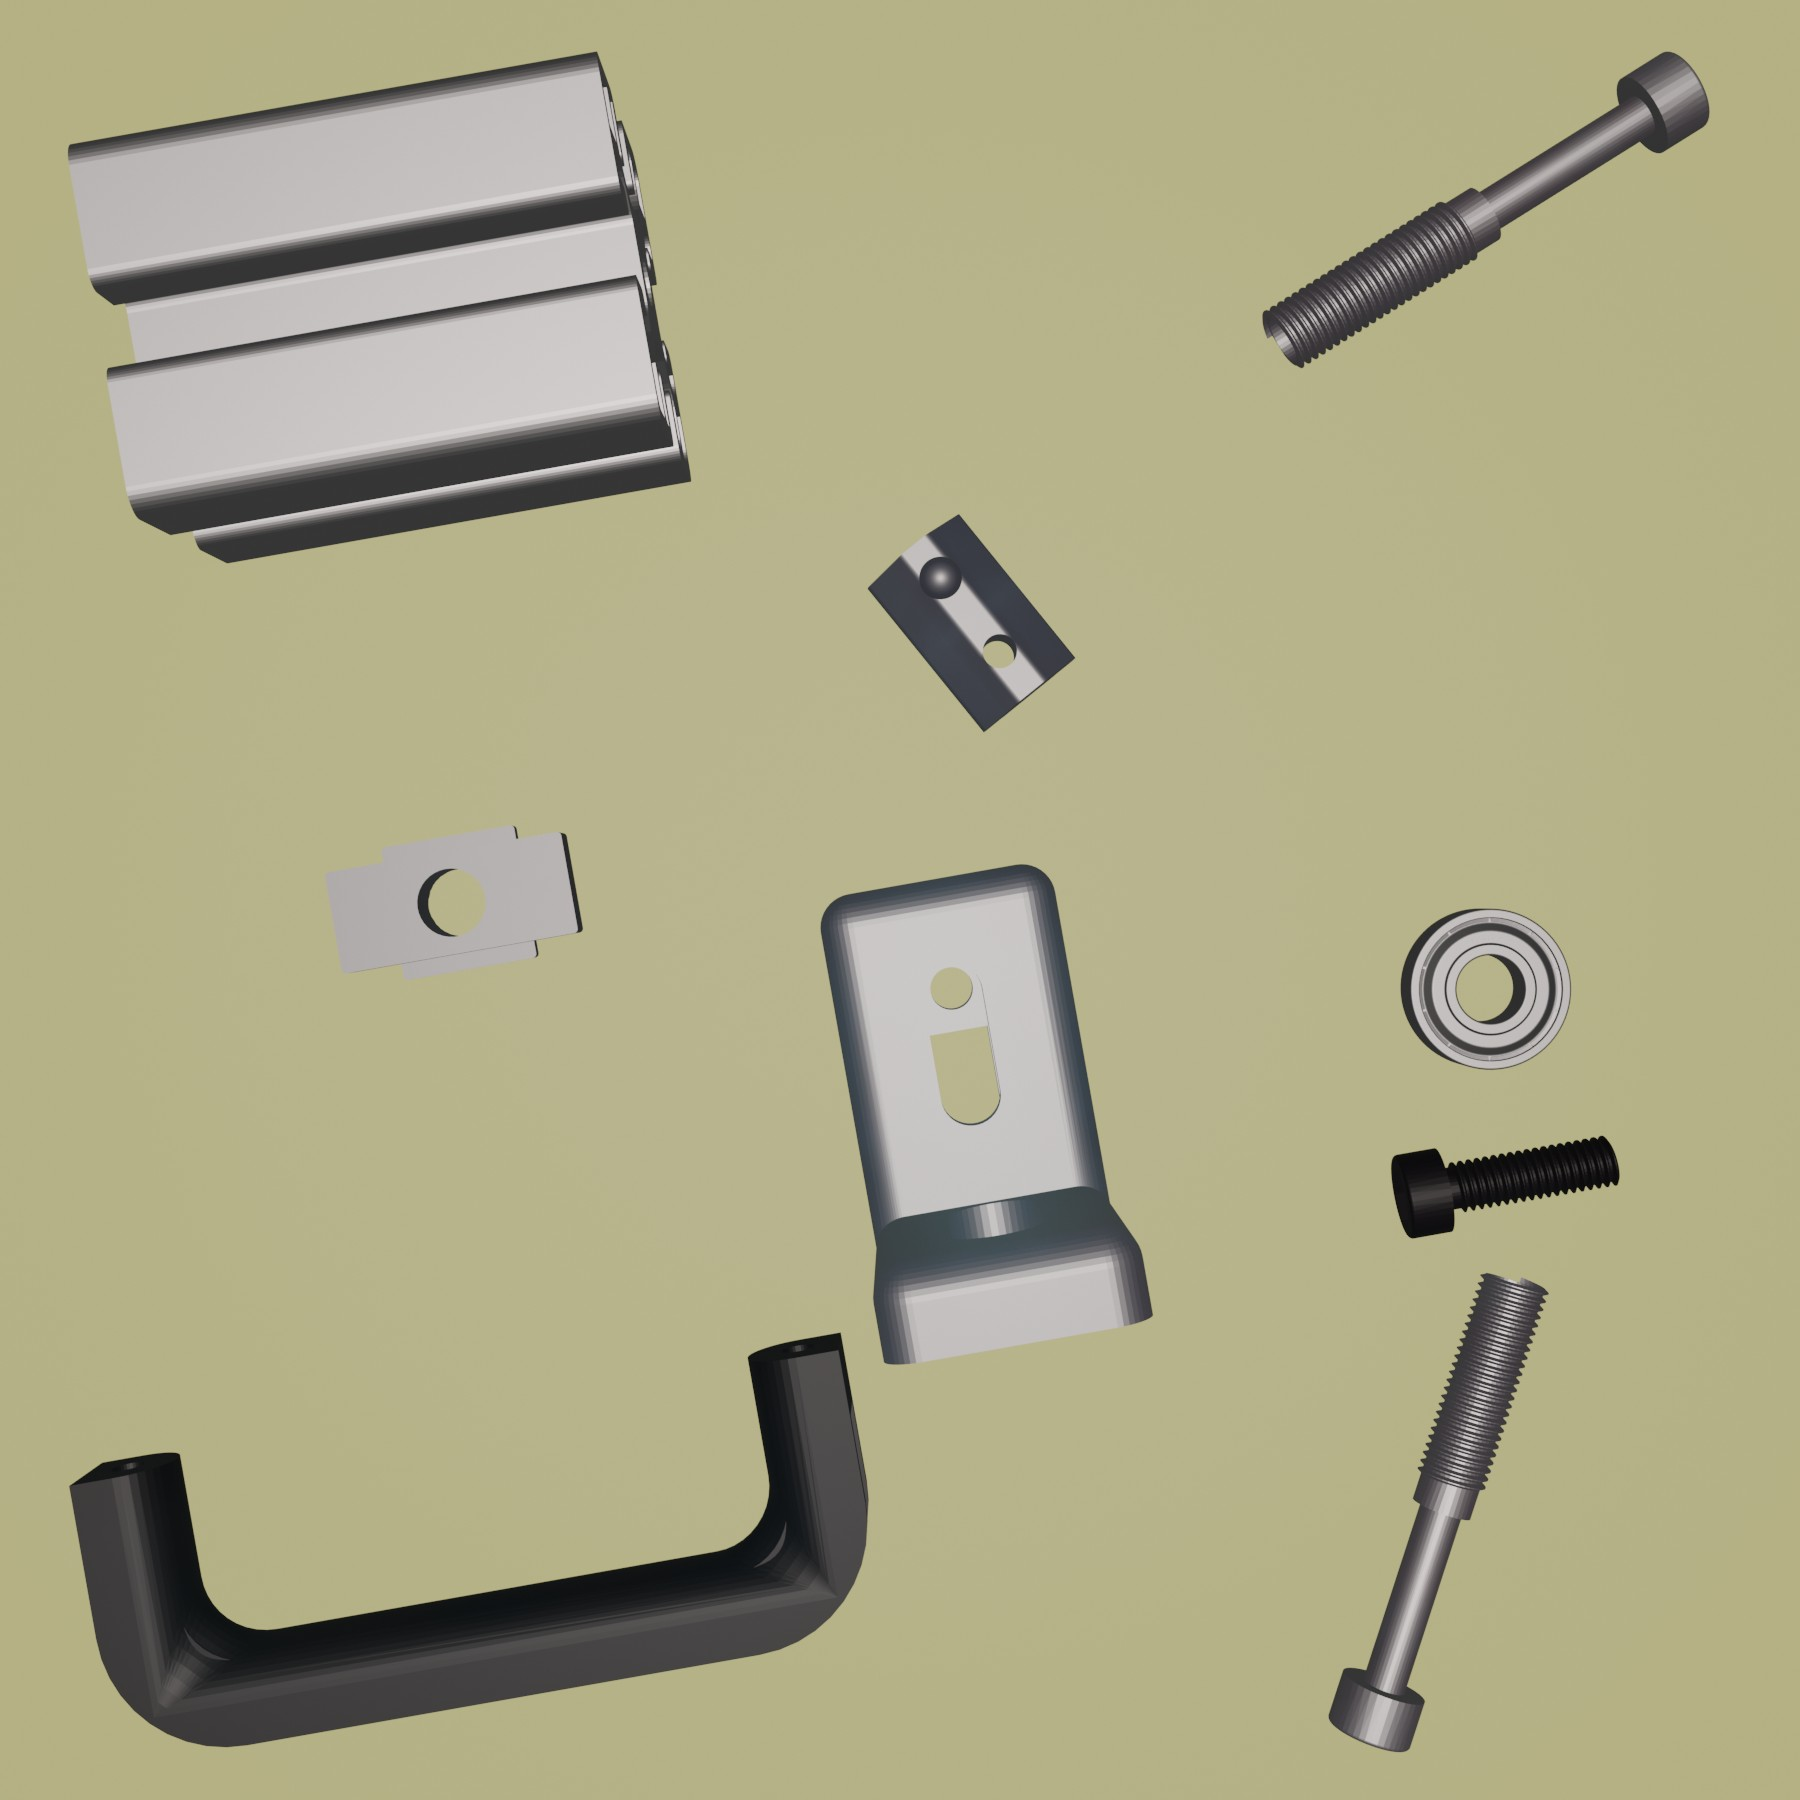Aluminium Extension: (64, 48, 696, 564)
Ball Bearing: (1398, 903, 1574, 1073)
Multiwinkel: (818, 862, 1155, 1368)
Pull Handle: (68, 1332, 870, 1751)
Shoulder Socket Head Cap Screw: (1259, 49, 1711, 369), (1327, 1268, 1551, 1754)
Socket Head Cap Screw: (1390, 1132, 1624, 1243)
T Nut Square: (321, 819, 587, 981)
T Spring Nut: (862, 509, 1078, 734)
